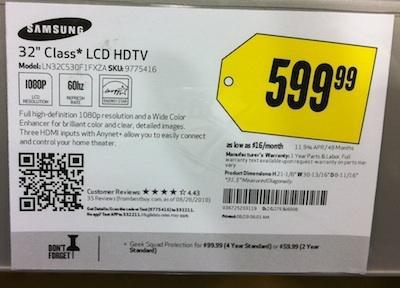Finder pattern: (15, 194, 38, 213), (16, 150, 39, 168), (66, 152, 86, 170)
